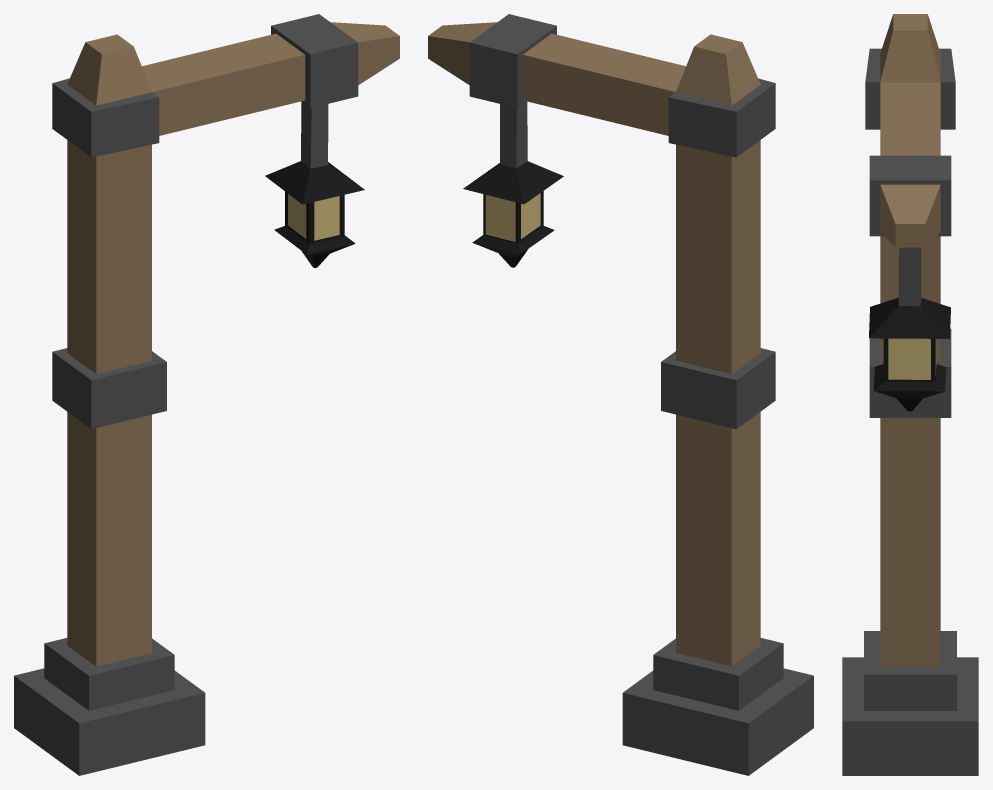
File: lamba1untitled.fbx
3 views of the same model, side by side, from view 1: azimuth 30°, elevation 25°; view 2: azimuth 150°, elevation 25°; view 3: azimuth 270°, elevation 25° (orthographic). The views are drawn at different scales.
Visible parts, largest first — view 1: lamba; view 2: lamba; view 3: lamba.
Part boxes in pixels (x1=…): lamba: x1=14, y1=14, x2=399, y2=775; lamba: x1=428, y1=14, x2=813, y2=775; lamba: x1=842, y1=14, x2=978, y2=775.
Size of the model in its own units: 270 by 515 by 88.16.
